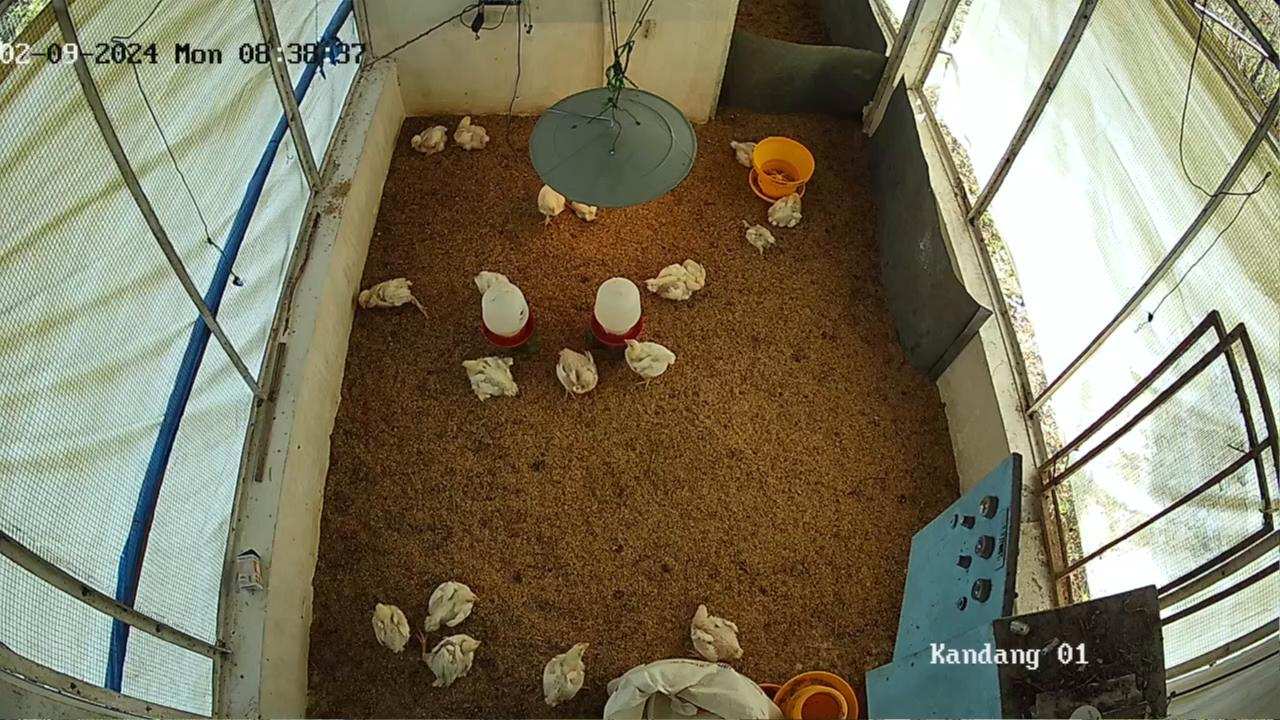chicken: (540, 638, 592, 710), (687, 600, 745, 664), (424, 632, 485, 692), (422, 577, 481, 634), (459, 354, 520, 403), (621, 337, 678, 382), (554, 346, 601, 398), (371, 599, 412, 656), (358, 274, 415, 314), (643, 263, 695, 302), (452, 114, 492, 152), (766, 190, 804, 229), (410, 123, 449, 156), (472, 268, 511, 298), (727, 137, 763, 169), (744, 222, 778, 255), (537, 184, 567, 218), (682, 258, 706, 292), (572, 199, 599, 222)
